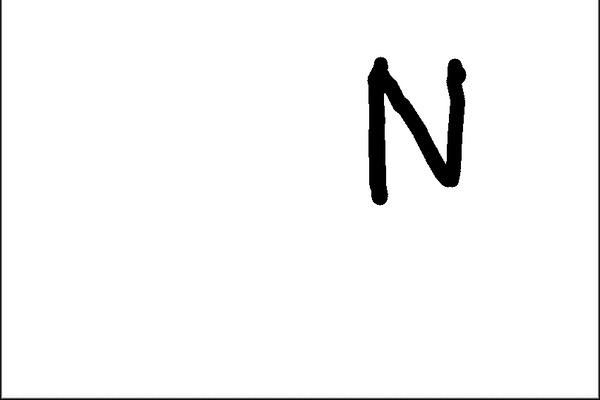N: (361, 51, 472, 207)
